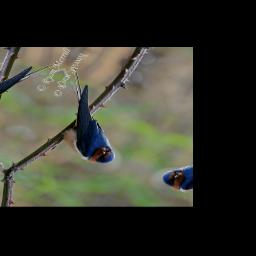Swallow: (23, 66, 158, 169)
